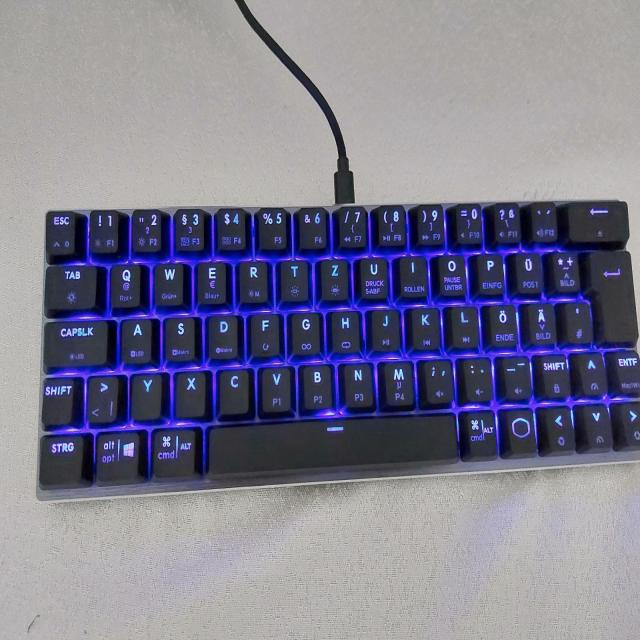0: (454, 201, 482, 245)
1: (88, 207, 120, 255)
2: (130, 206, 164, 253)
3: (172, 204, 206, 253)
4: (215, 207, 248, 253)
5: (256, 206, 289, 252)
6: (296, 204, 329, 250)
7: (336, 203, 366, 249)
8: (375, 202, 407, 248)
9: (416, 203, 444, 248)
a: (118, 313, 152, 363)
accent: (529, 199, 558, 242)
ae: (526, 301, 556, 346)
alt-left: (149, 424, 198, 477)
altgr-right: (464, 409, 499, 459)
b: (301, 361, 333, 409)
c: (217, 366, 249, 414)
caret: (45, 209, 76, 258)
comma: (421, 355, 453, 404)
d: (205, 311, 239, 359)
del: (566, 198, 630, 242)
e: (195, 258, 227, 304)
enter: (586, 248, 637, 342)
f: (249, 310, 280, 356)
g: (290, 309, 320, 354)
h: (329, 307, 360, 352)
hash: (563, 298, 593, 343)
i: (398, 254, 427, 301)
j: (370, 305, 400, 350)
k: (411, 306, 441, 351)
keyboard: (34, 196, 637, 504)
l: (449, 306, 479, 351)
less: (85, 372, 118, 422)
m: (380, 357, 415, 407)
minus: (501, 354, 532, 401)
n: (341, 358, 374, 408)
o: (436, 253, 466, 299)
oe: (487, 302, 517, 347)
p: (475, 249, 504, 296)
plus: (550, 250, 580, 295)
point: (461, 354, 492, 401)
q: (108, 260, 141, 307)
r: (238, 257, 269, 303)
s: (162, 317, 196, 365)
shift-left: (40, 374, 74, 425)
shift-lock: (44, 317, 109, 367)
shift-right: (538, 354, 569, 401)
space: (207, 413, 460, 471)
ss: (492, 200, 521, 243)
strg-left: (38, 433, 83, 484)
t: (280, 257, 309, 300)
tab: (44, 262, 97, 311)
u: (359, 256, 388, 303)
ue: (513, 251, 543, 296)
v: (258, 362, 292, 412)
w: (152, 259, 185, 306)
x: (174, 367, 207, 416)
y: (130, 370, 162, 419)
z: (319, 255, 348, 300)
